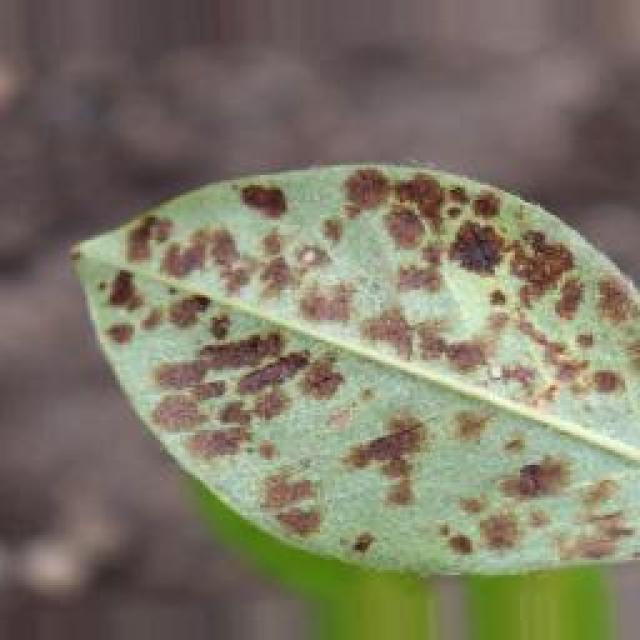Whitefly: (34, 144, 640, 573)
